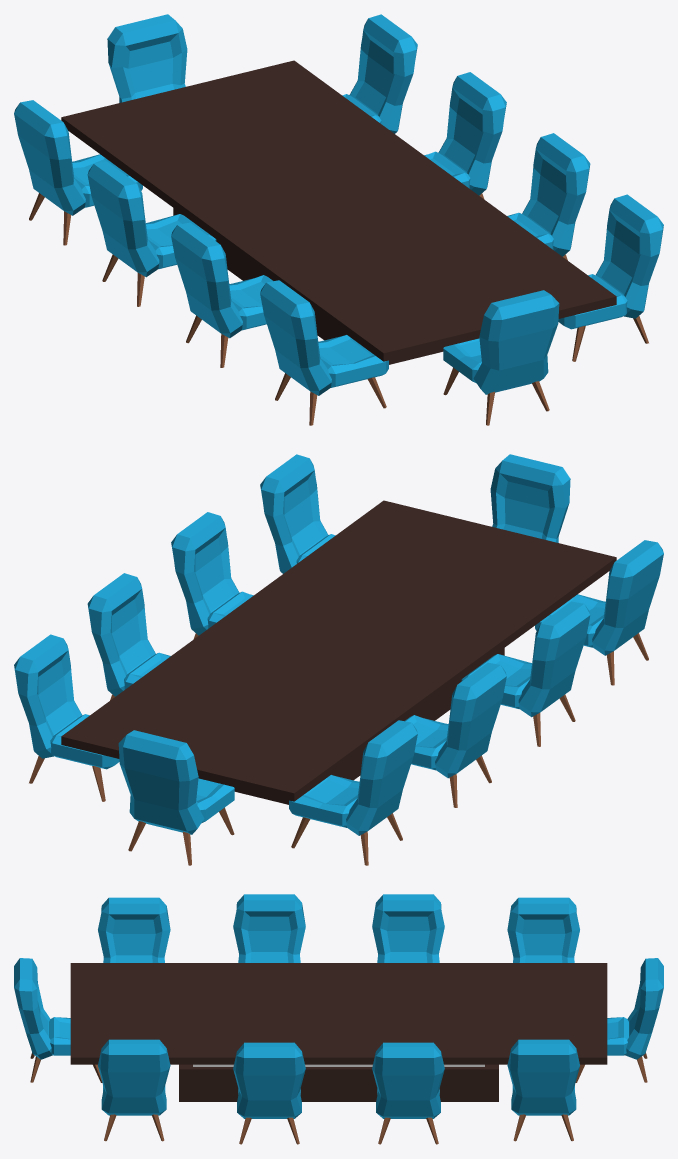
Rendered from Meeting Table.fbx.
3 views of the same model, one above another, from view 1: azimuth 30°, elevation 25°; view 2: azimuth 150°, elevation 25°; view 3: azimuth 270°, elevation 25° (orthographic). The views are drawn at different scales.
Parts seen in each view (by area): view 1: Cube.009, Cube.011, Cube.012, Cube.010; view 2: Cube.009, Cube.011, Cube.012, Cube.010; view 3: Cube.009, Cube.012, Cube.011, Cube.010.
Part boxes in pixels (bbox=[...]): Cube.009: bbox=[61, 60, 616, 364]; Cube.011: bbox=[14, 14, 663, 425]; Cube.012: bbox=[87, 72, 590, 367]; Cube.010: bbox=[107, 14, 559, 425]; Cube.009: bbox=[61, 500, 616, 804]; Cube.011: bbox=[14, 454, 663, 865]; Cube.012: bbox=[87, 512, 590, 807]; Cube.010: bbox=[118, 454, 570, 865]; Cube.009: bbox=[70, 963, 607, 1101]; Cube.012: bbox=[233, 894, 444, 1144]; Cube.011: bbox=[98, 897, 579, 1141]; Cube.010: bbox=[14, 958, 663, 1082].
Size of the model in its own units: 334 by 101 by 580.
